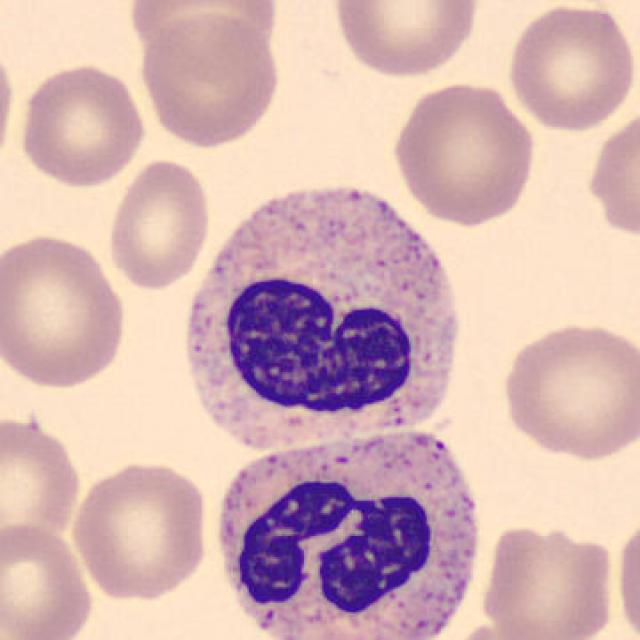Neutrophil: (171, 166, 471, 469), (204, 418, 489, 640)
RBC: (388, 78, 538, 226), (66, 457, 212, 603), (133, 9, 284, 150), (0, 230, 130, 392), (496, 317, 636, 464), (503, 2, 637, 134), (14, 60, 150, 190), (482, 520, 624, 640), (105, 155, 215, 291), (328, 0, 483, 79), (0, 409, 85, 550), (0, 520, 96, 640), (126, 0, 283, 65), (577, 115, 640, 243), (611, 509, 640, 640), (0, 35, 18, 178)
